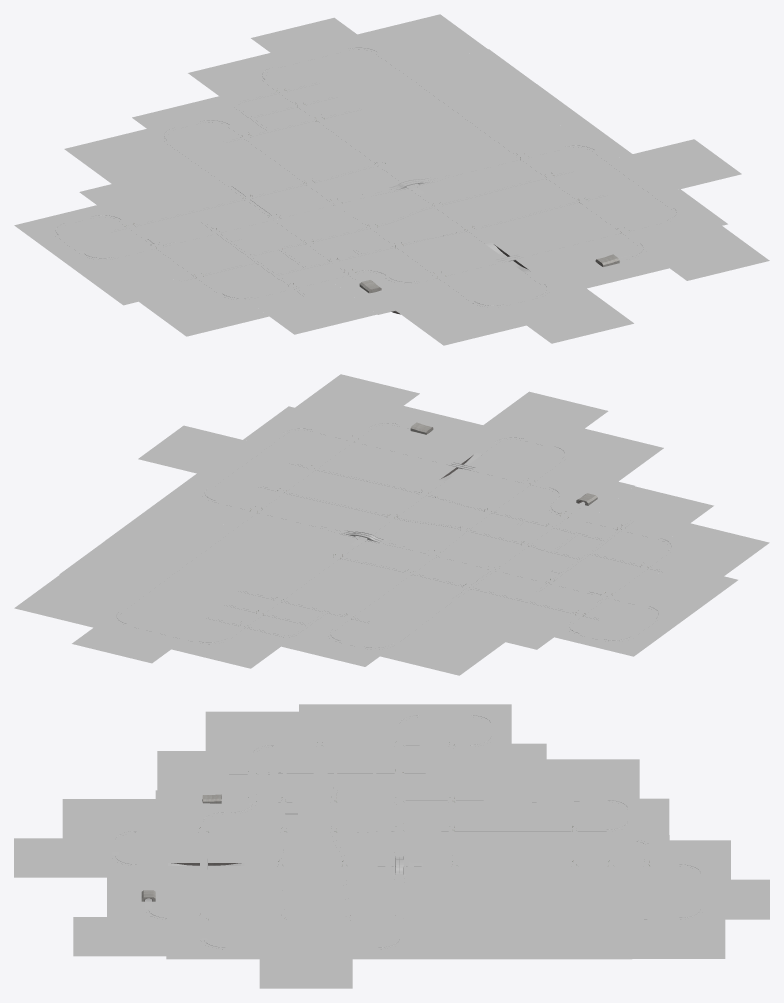
Rendered from sample_city.fbx.
The picture shows the model from 3 angles, top to bottom: view 1: azimuth 30°, elevation 25°; view 2: azimuth 150°, elevation 25°; view 3: azimuth 270°, elevation 25°; orthographic projection. The views are drawn at different scales.
Parts seen in each view (by area): view 1: Plane.004, roads; view 2: Plane.004, roads; view 3: Plane.004, roads.
Part boxes in pixels (x1=…): Plane.004: x1=14, y1=14, x2=769, y2=345; roads: x1=52, y1=46, x2=680, y2=314; Plane.004: x1=14, y1=374, x2=769, y2=675; roads: x1=113, y1=421, x2=674, y2=649; Plane.004: x1=14, y1=704, x2=769, y2=988; roads: x1=111, y1=714, x2=704, y2=949.
Size of the model in its own units: 387769 by 5650 by 435918.
